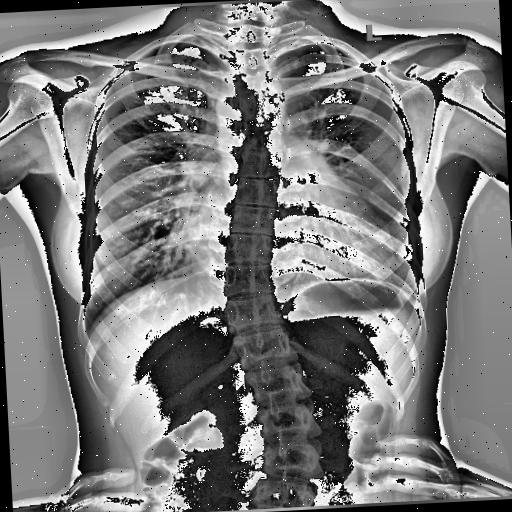3- Cardiomegaly: (184, 188, 398, 292), (184, 214, 396, 292), (184, 212, 396, 288)
9- Other lesion: (214, 88, 244, 135), (212, 84, 243, 124)
